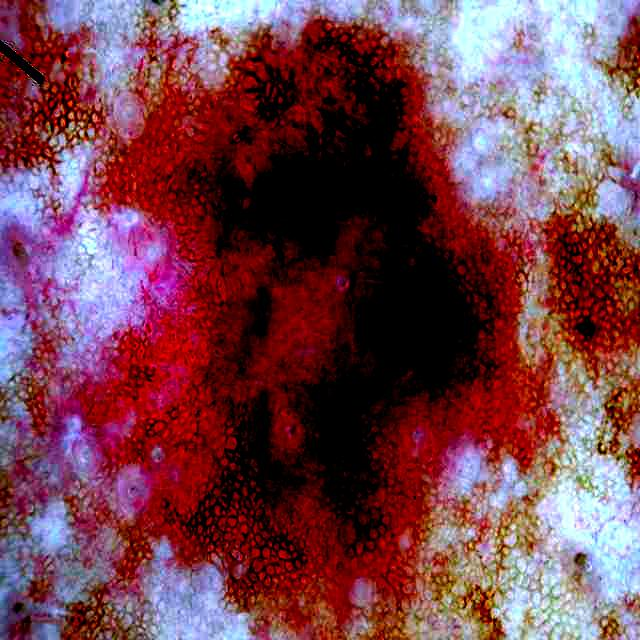MEL: (116, 24, 529, 637)
